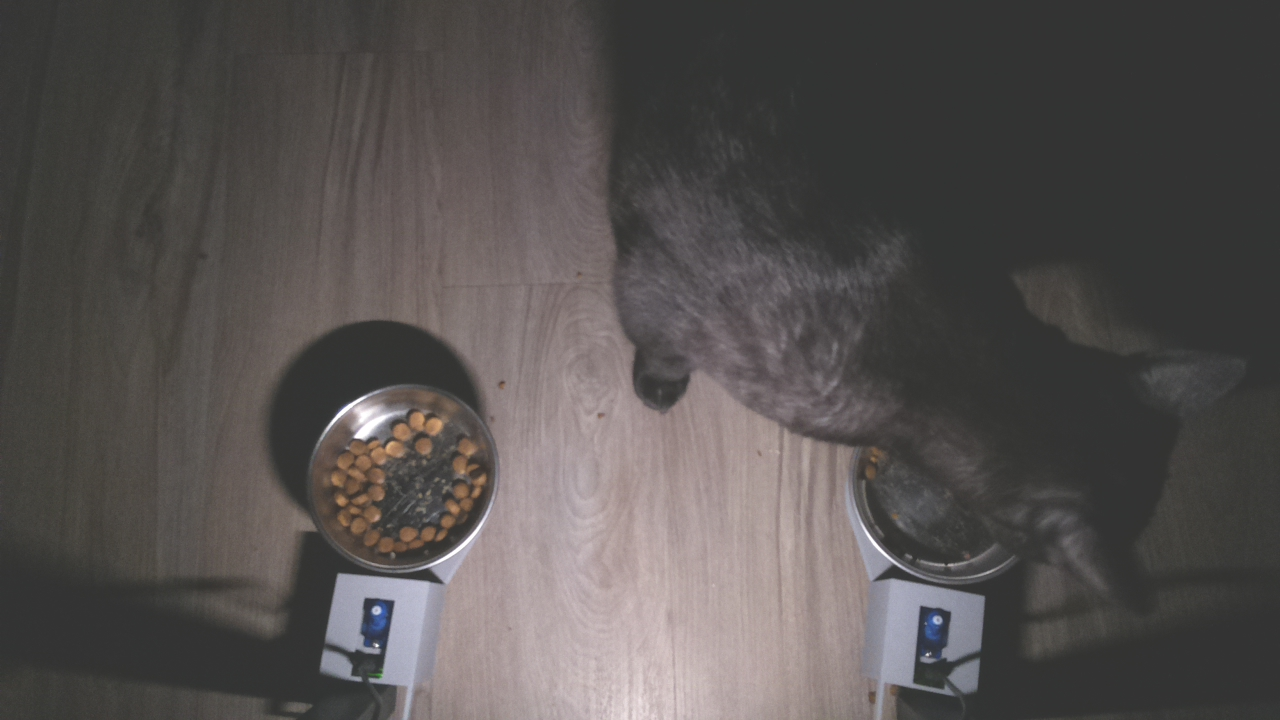open_bowl: (304, 377, 516, 586)
saki_eating: (875, 283, 1254, 618)
